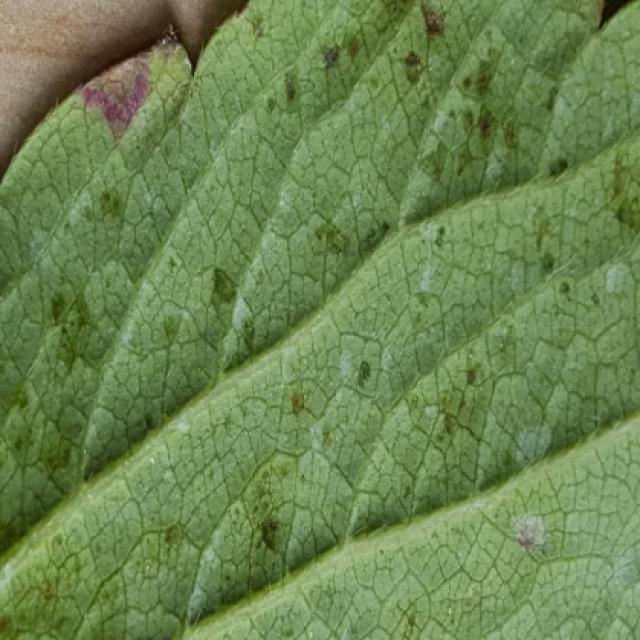Angular Leafspot: (0, 0, 638, 638)
